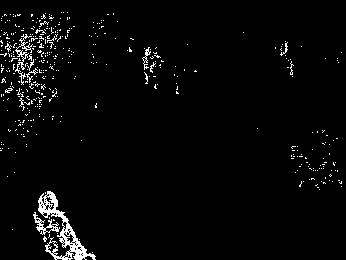person: (32, 191, 96, 259)
